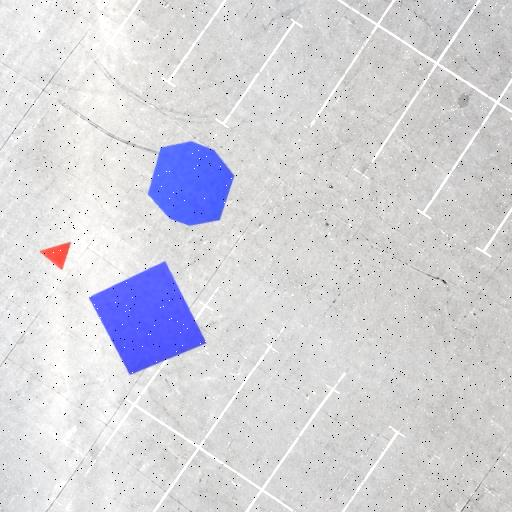BLUE_SQUARE: (88, 260, 206, 376)
